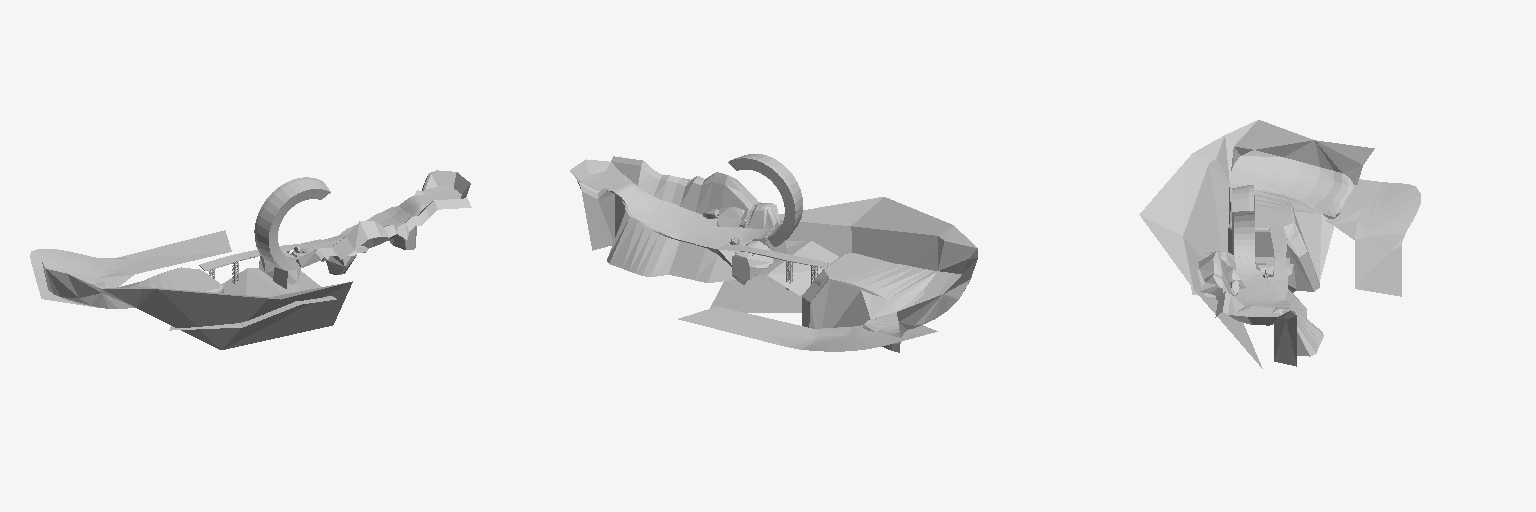
Rendered from testtrack8.obj.
The picture shows the model from 3 angles: view 1: azimuth 30°, elevation 25°; view 2: azimuth 150°, elevation 25°; view 3: azimuth 270°, elevation 25°; orthographic projection.
Visible parts, largest first — view 1: Plane; view 2: Plane; view 3: Plane.
Part boxes in pixels (x1,y1,x2,y2): Plane: (30,170,471,349); Plane: (570,154,977,352); Plane: (1139,120,1420,368).
Bounding box in the file's own units: 50.13 × 19.23 × 30.61.